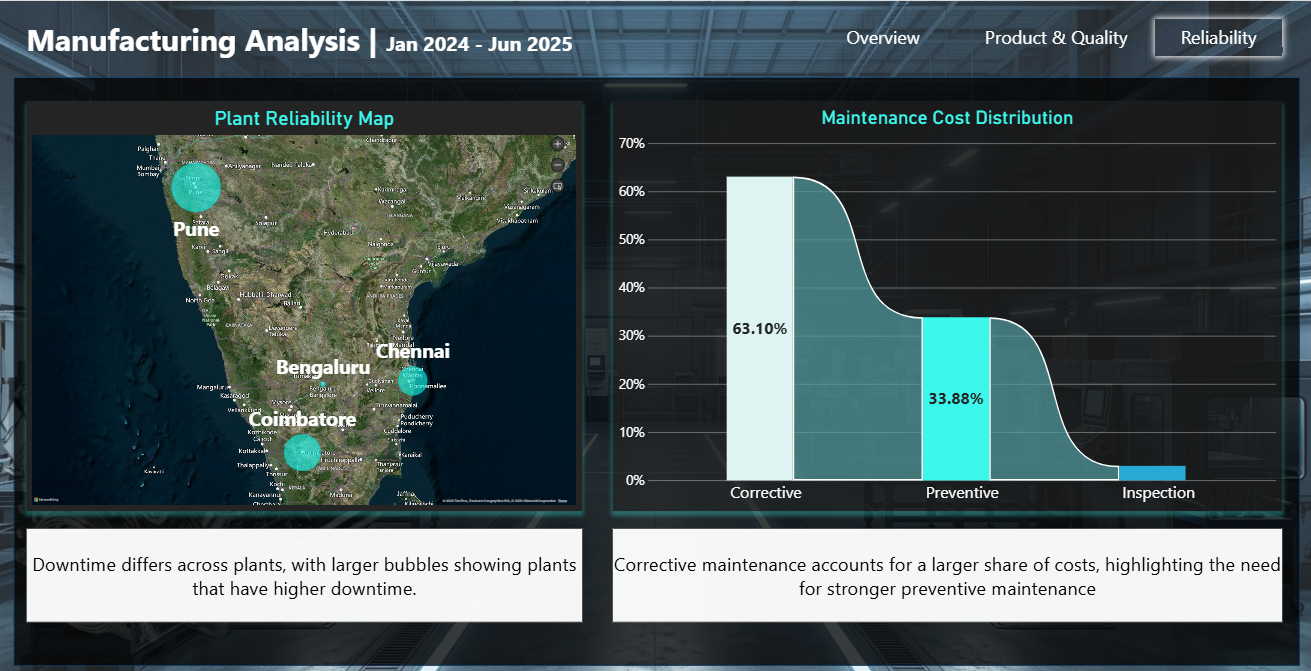

The dashboard page shown, as its layout file describes it:
{"tool":"powerbi","page":{"name":"Reliability","canvas":[3500,1800],"ordinal":3},"visuals":[{"type":"textbox","box":[70,46.7,1483.3,133.3],"z":0},{"type":"image","box":[0,626.7,1023.3,1173.3],"z":1000},{"type":"shape","box":[36.7,203.3,3430,1570],"z":2000},{"type":"actionButton","title":"Overview off","box":[2183.3,46.7,343.3,100],"z":3000},{"type":"actionButton","title":"pro & qua off","box":[2552.7,46,526.7,100],"z":7000},{"type":"actionButton","title":"reliability on","box":[3079.3,46,340,100],"z":8000},{"type":"map","title":"Plant Reliability Map","fields":{"Category":["plants.city"],"Size":["downtime_measures.Total Downtime Minutes"]},"box":[70,266.7,1483.3,1093.3],"z":9000},{"type":"ribbonChart","title":"Maintenance Cost Distribution","fields":{"Category":["maintenance_records.maintenance_type"],"Y":["Sum(maintenance_records.maintenance_cost)"]},"box":[1633.3,266.7,1786.7,1093.3],"z":10000},{"type":"shape","box":[70,1406.7,1483.3,250],"z":11000},{"type":"shape","box":[1633.3,1406.7,1786.7,250],"z":12000}]}

Visuals, with their boxes in screenshot pixels (x1, y1, x2, y2), scaled from the page's 3500x1800 canvas onto the 1311x671 screenshot:
textbox: [x1=26, y1=17, x2=582, y2=67]
image: [x1=0, y1=234, x2=383, y2=670]
shape: [x1=14, y1=76, x2=1299, y2=661]
"Overview off" actionButton: [x1=818, y1=17, x2=946, y2=55]
"pro & qua off" actionButton: [x1=956, y1=17, x2=1153, y2=54]
"reliability on" actionButton: [x1=1153, y1=17, x2=1281, y2=54]
"Plant Reliability Map" map: [x1=26, y1=99, x2=582, y2=507]
"Maintenance Cost Distribution" ribbonChart: [x1=612, y1=99, x2=1281, y2=507]
shape: [x1=26, y1=524, x2=582, y2=618]
shape: [x1=612, y1=524, x2=1281, y2=618]
